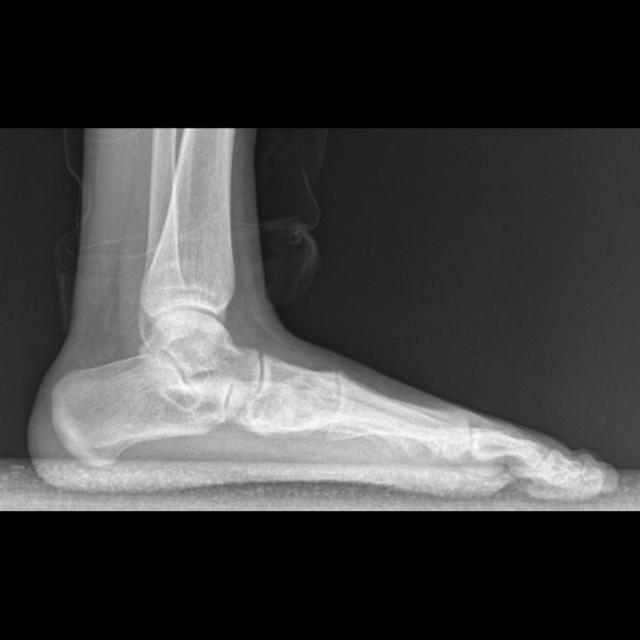a: (52, 352, 231, 464)
b: (244, 353, 340, 436)
c: (331, 378, 477, 470)
